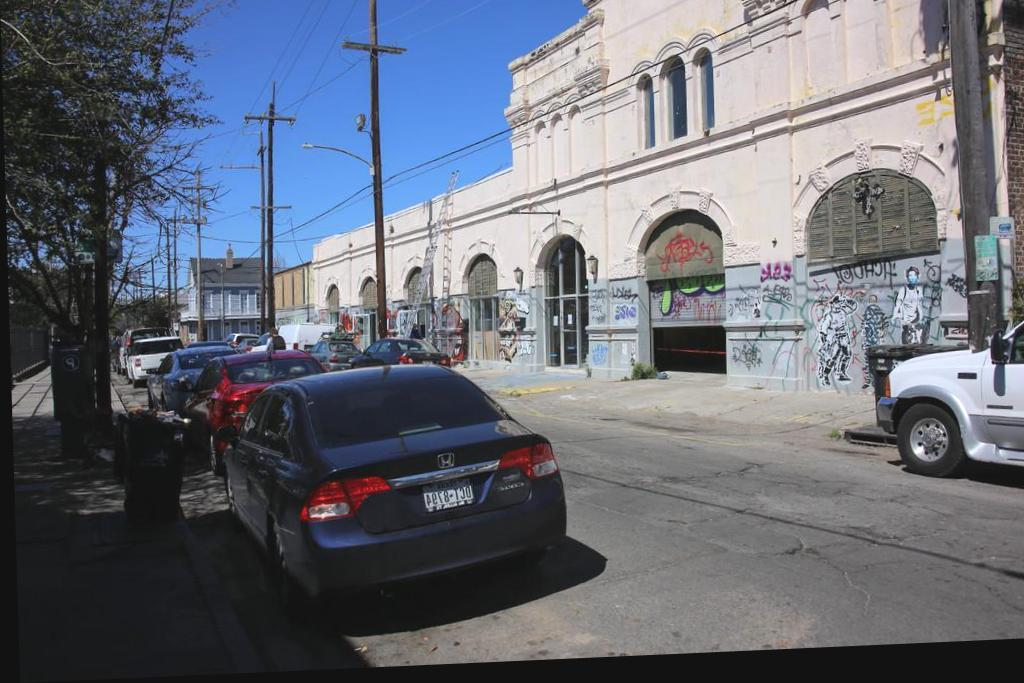License_Plate: (417, 480, 477, 514)
